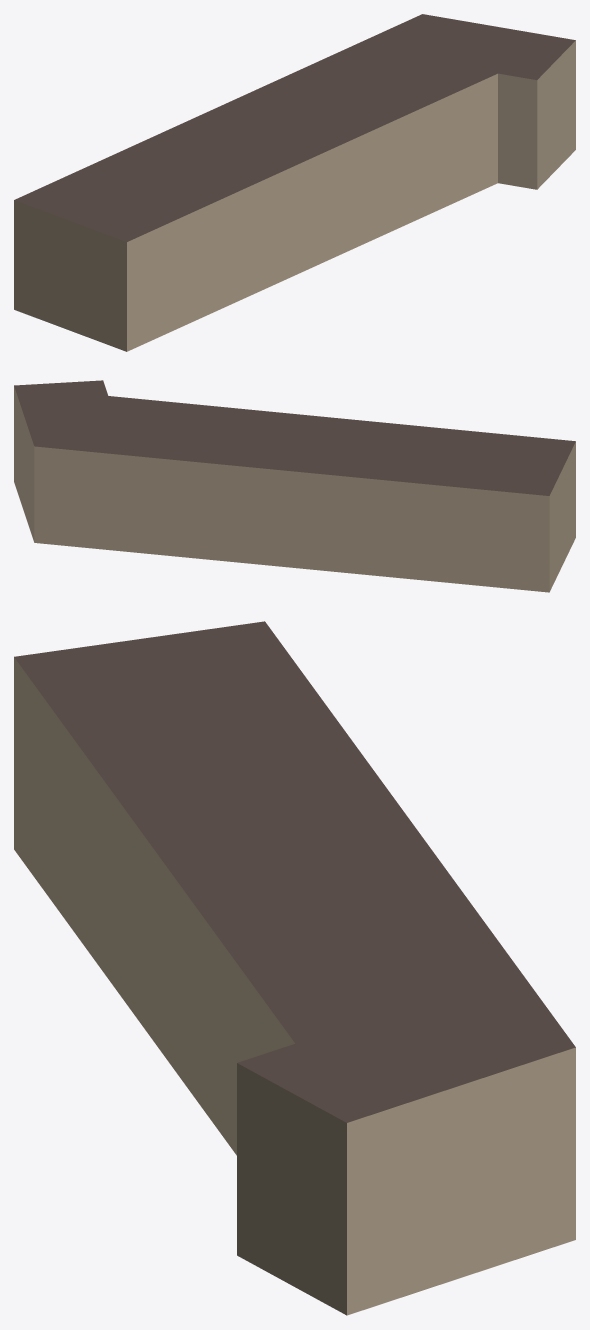
The picture shows the model from 3 angles, top to bottom: view 1: azimuth 30°, elevation 25°; view 2: azimuth 150°, elevation 25°; view 3: azimuth 270°, elevation 25°; orthographic projection. The views are drawn at different scales.
Visible parts, largest first — view 1: HP-w756797942; view 2: HP-w756797942; view 3: HP-w756797942.
Boxes of the visible parts, x1,y1,x2,y2 form: HP-w756797942: (14, 14, 575, 351); HP-w756797942: (14, 380, 575, 592); HP-w756797942: (14, 621, 575, 1315).
Bounding box in the file's own units: 50.28 × 9 × 23.8.
